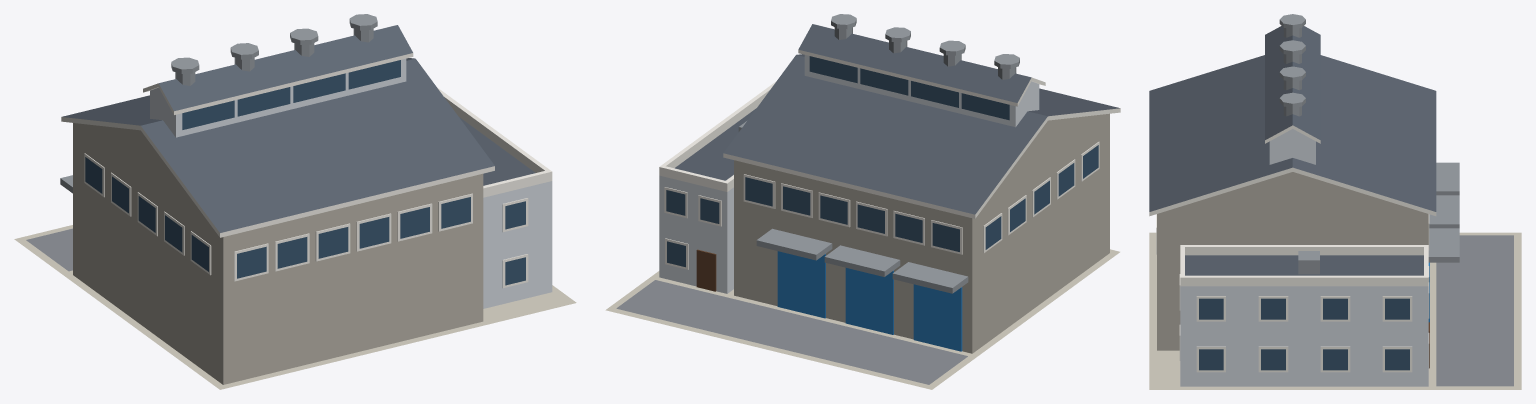
3 renders of one model, left to right at view 1: azimuth 30°, elevation 25°; view 2: azimuth 150°, elevation 25°; view 3: azimuth 270°, elevation 25°, orthographic. The views are drawn at different scales.
Visible parts, largest first — view 1: hall, roof (×3), office, window_glass (×8), yard, window_band (×4), roof_edge (×2), gable, clerestory, parapet (×2), car_park; view 2: roof (×3), hall, car_park, garage_door (×3), office, yard, window_glass (×7), canopy (×3), window_band (×4), roof_edge (×2), gable, clerestory (+2 smaller); view 3: roof (×3), office, hall, car_park, yard, parapet (×2), gable, window_glass (×8), canopy (×3), roof_edge, vent_cap (×4), window_frame (×4) (+2 smaller).
Boxes of the visible parts, x1=… form: hall: x1=73, y1=123, x2=483, y2=384; roof (×3): x1=62, y1=25, x2=535, y2=232; office: x1=483, y1=181, x2=552, y2=308; window_glass (×8): x1=237, y1=197, x2=525, y2=285; yard: x1=14, y1=225, x2=576, y2=389; window_band (×4): x1=182, y1=60, x2=400, y2=129; roof_edge (×2): x1=61, y1=53, x2=494, y2=237; gable: x1=77, y1=123, x2=203, y2=215; clerestory: x1=150, y1=58, x2=406, y2=137; parapet (×2): x1=437, y1=87, x2=552, y2=197; car_park: x1=26, y1=228, x2=72, y2=271; roof (×3): x1=675, y1=24, x2=1119, y2=214; hall: x1=734, y1=113, x2=1109, y2=353; car_park: x1=616, y1=280, x2=967, y2=384; garage_door (×3): x1=777, y1=251, x2=962, y2=351; office: x1=659, y1=175, x2=733, y2=293; yard: x1=605, y1=249, x2=1119, y2=389; window_glass (×7): x1=666, y1=177, x2=959, y2=251; canopy (×3): x1=756, y1=228, x2=968, y2=293; window_band (×4): x1=809, y1=56, x2=1009, y2=120; roof_edge (×2): x1=723, y1=49, x2=1120, y2=218; gable: x1=990, y1=114, x2=1105, y2=198; clerestory: x1=804, y1=55, x2=1039, y2=127; roof (×3): x1=1149, y1=26, x2=1436, y2=275; office: x1=1180, y1=286, x2=1428, y2=386; hall: x1=1157, y1=210, x2=1428, y2=350; car_park: x1=1436, y1=235, x2=1513, y2=386; yard: x1=1149, y1=232, x2=1521, y2=389; parapet (×2): x1=1185, y1=245, x2=1423, y2=286; gable: x1=1168, y1=172, x2=1416, y2=210; window_glass (×8): x1=1199, y1=298, x2=1409, y2=370; canopy (×3): x1=1428, y1=162, x2=1459, y2=262; roof_edge: x1=1149, y1=167, x2=1436, y2=216; vent_cap (×4): x1=1279, y1=14, x2=1305, y2=107; window_frame (×4): x1=1196, y1=346, x2=1412, y2=372.
Size of the model in its own units: 24 by 16.6 by 24.
